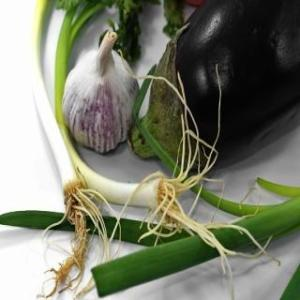eggplant: (128, 1, 300, 172)
garlic: (57, 27, 142, 162)
